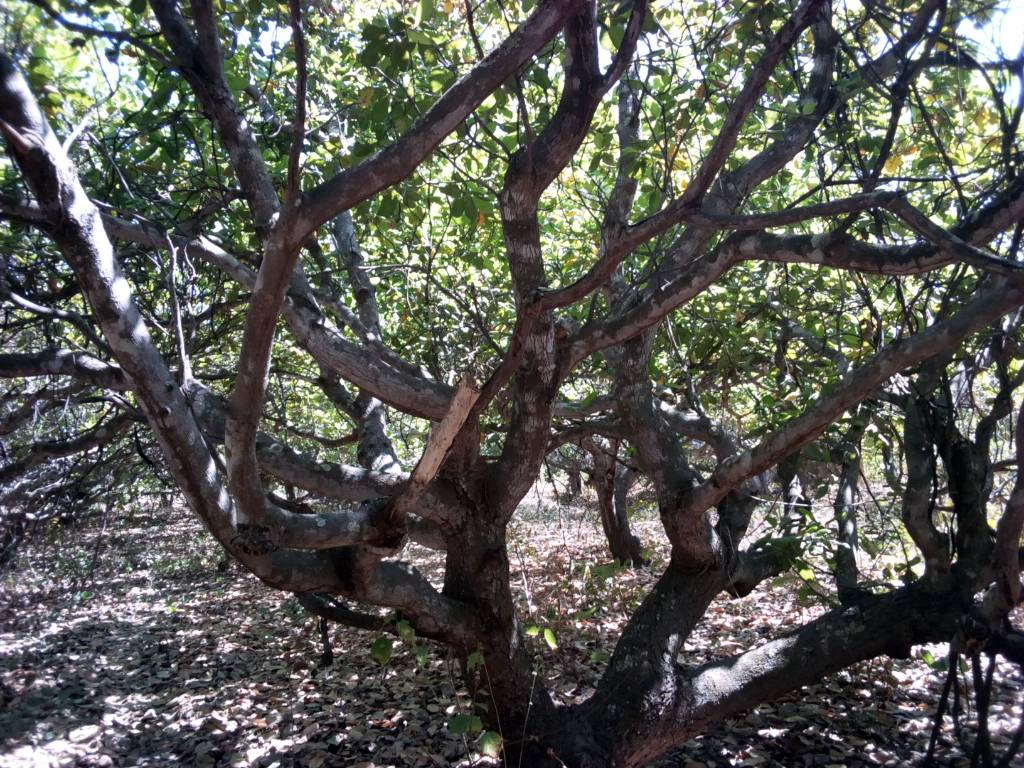Termites: (129, 357, 246, 559), (729, 409, 832, 485)
